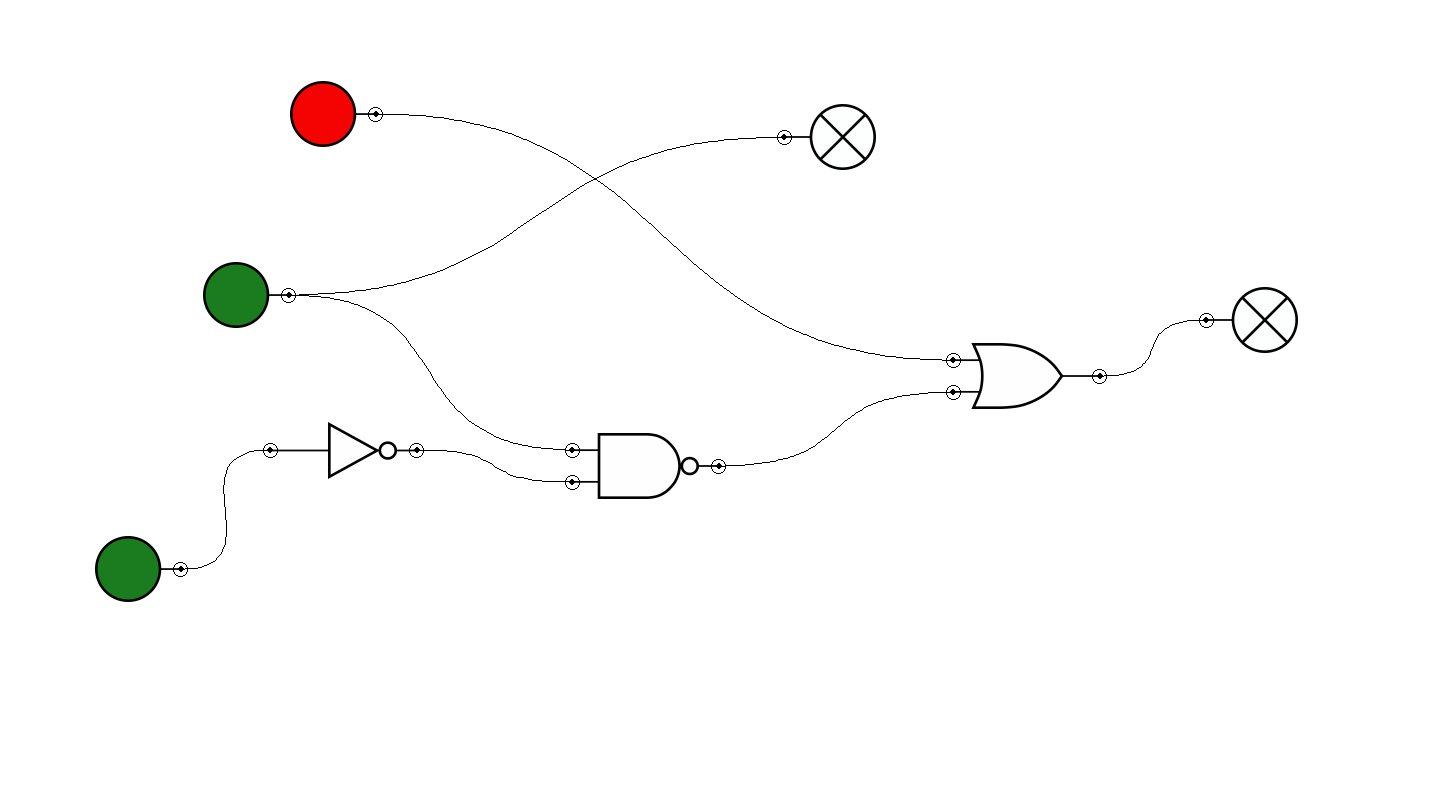bulb: (1199, 287, 1298, 353), (777, 104, 876, 170)
nand: (565, 433, 726, 499)
not: (263, 422, 424, 479)
or: (946, 343, 1107, 409)
switch_False: (290, 81, 383, 147)
switch_True: (95, 536, 188, 602), (203, 262, 296, 328)
